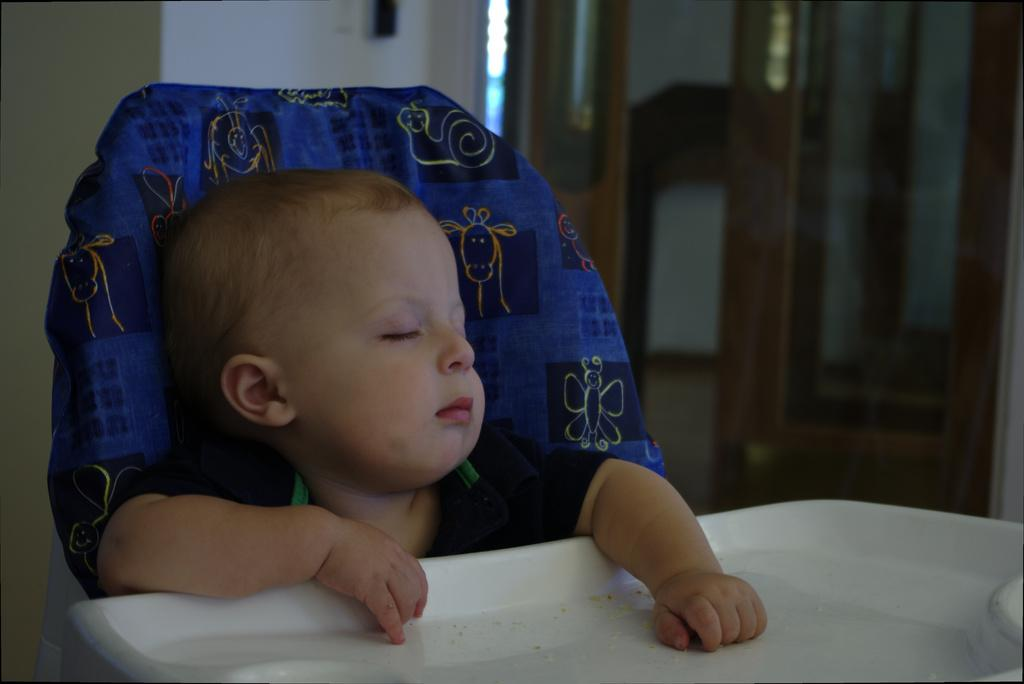Sem Máscara: (295, 198, 482, 485)
